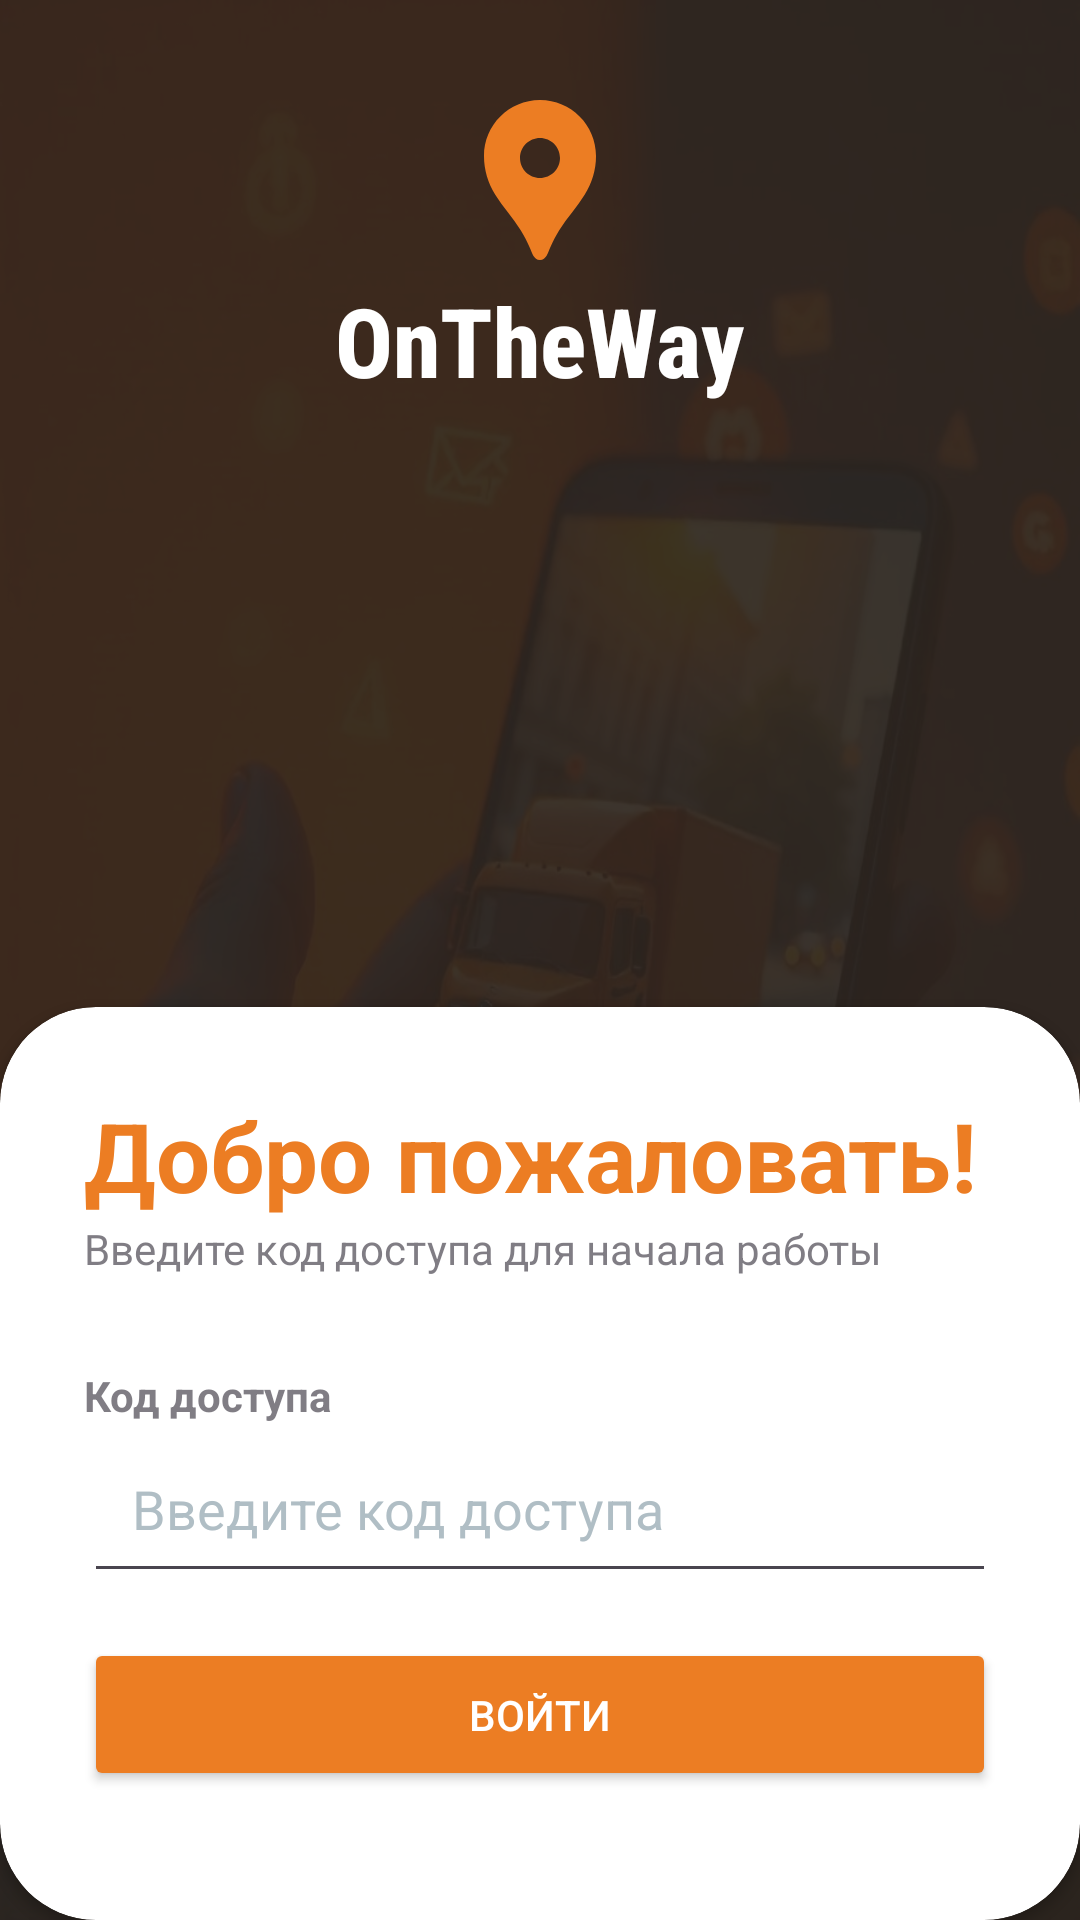

Named icons in this screenshot (1080px x 1920px) and their centers, point (x, y):
location: point (540, 180)
